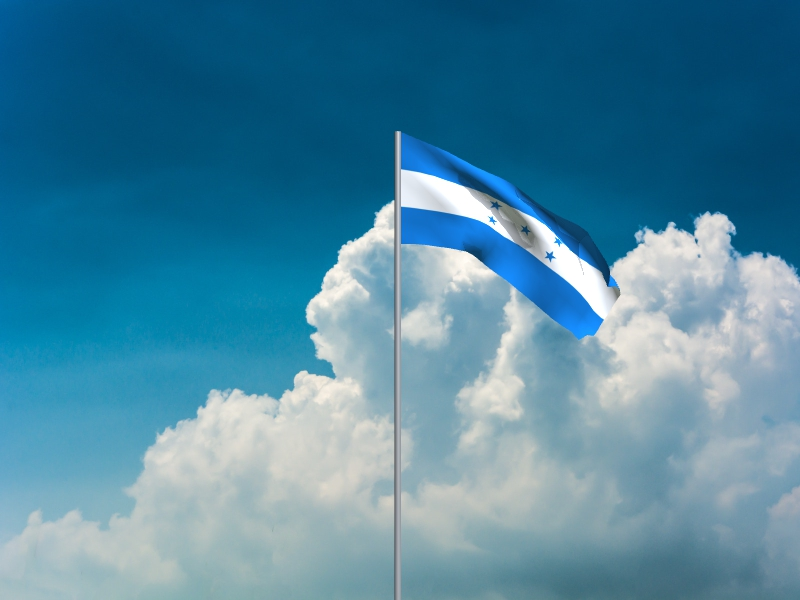hn: (402, 133, 622, 341)
